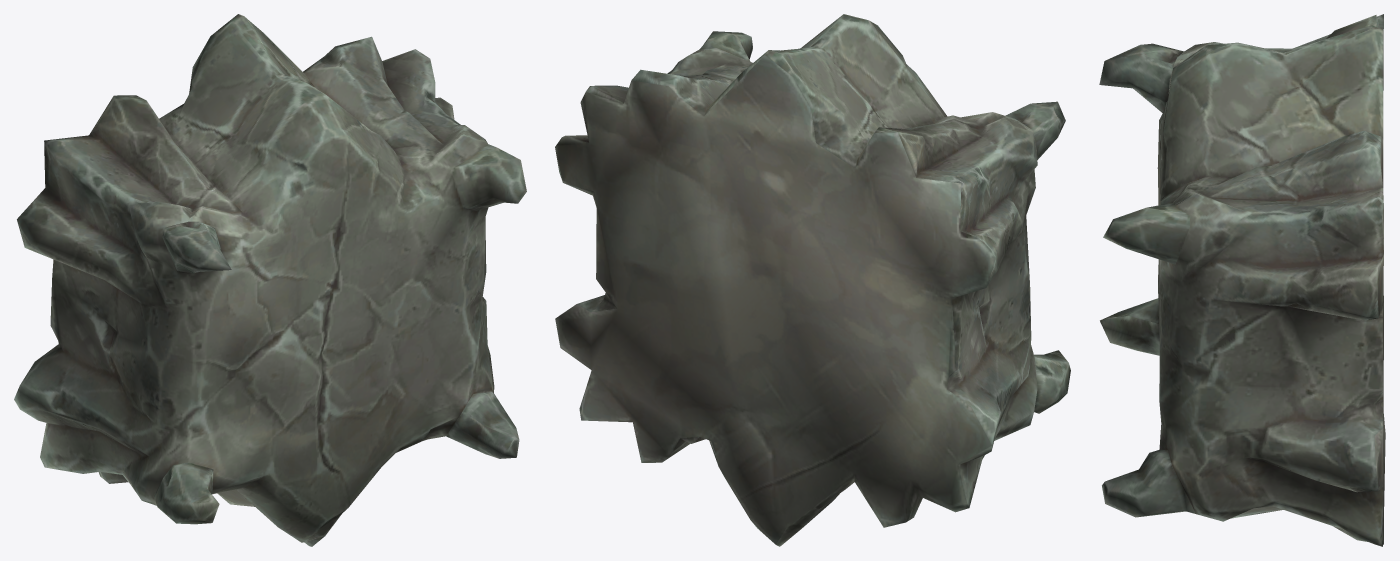
Rendered from Ruins_Pillar_Base_A.fbx.
3 views of the same model, side by side, from view 1: azimuth 30°, elevation 25°; view 2: azimuth 150°, elevation 25°; view 3: azimuth 270°, elevation 25° (orthographic). The views are drawn at different scales.
Parts seen in each view (by area): view 1: Ruins_Pillar_Base_A; view 2: Ruins_Pillar_Base_A; view 3: Ruins_Pillar_Base_A.
Part boxes in pixels (x1,y1,x2,y2): Ruins_Pillar_Base_A: (14,14,526,546); Ruins_Pillar_Base_A: (555,14,1070,546); Ruins_Pillar_Base_A: (1099,14,1385,546).
Bounding box in the file's own units: 530 × 566 × 288.
